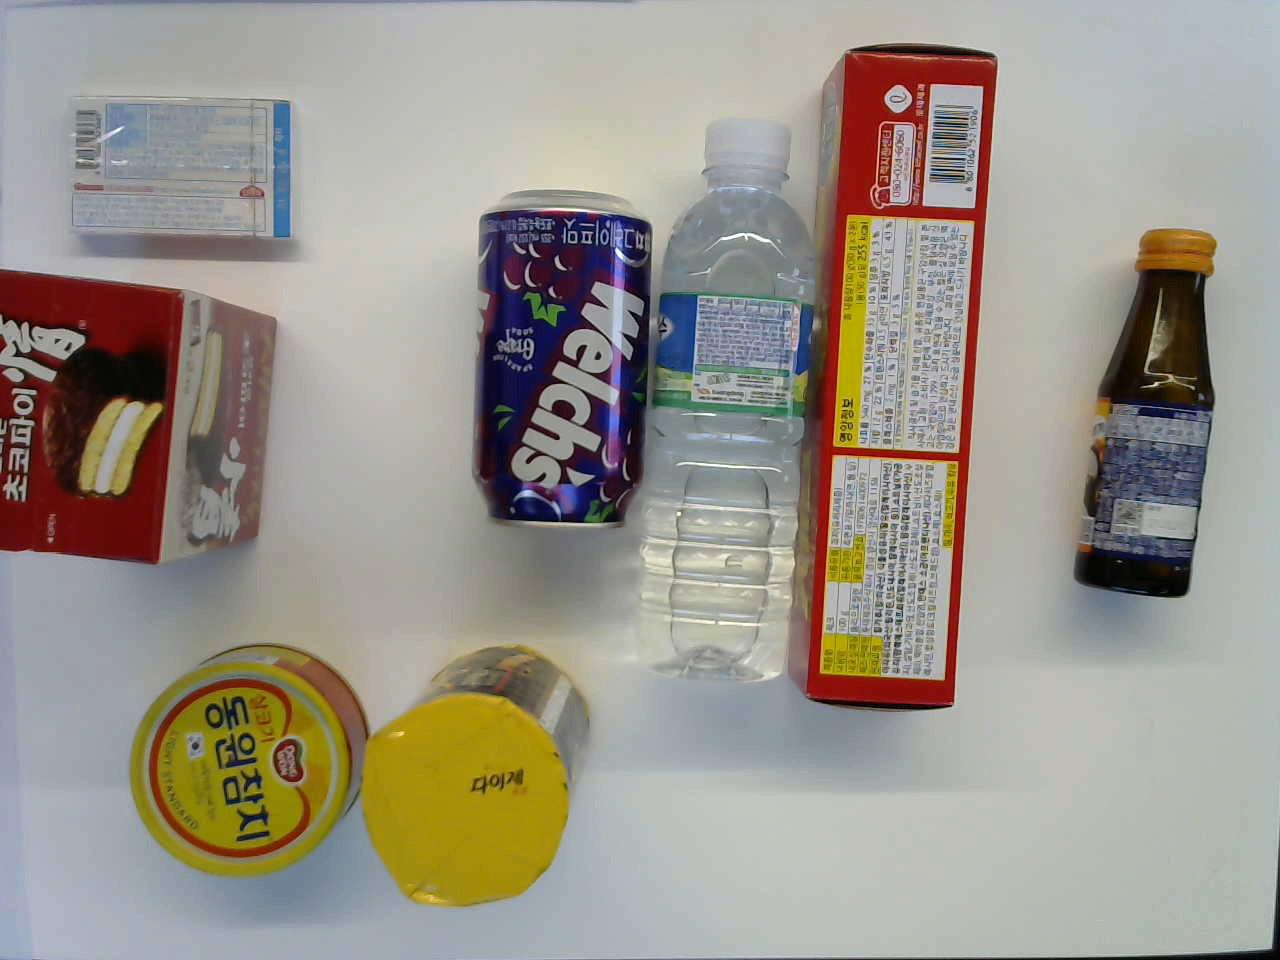ID_gum: (65, 89, 303, 251)
chocopie: (0, 264, 286, 568)
diget_choco: (358, 637, 593, 910)
samdasu: (631, 111, 825, 691)
tuna: (121, 638, 375, 878)
vita500: (1056, 221, 1225, 601)
welchs: (467, 184, 656, 538)
zec: (782, 39, 1008, 709)
